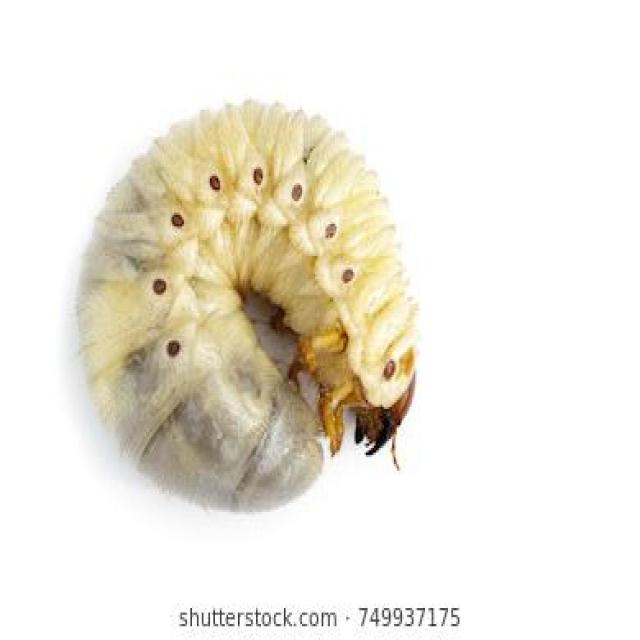Grub-Adult-: (69, 100, 456, 510)
